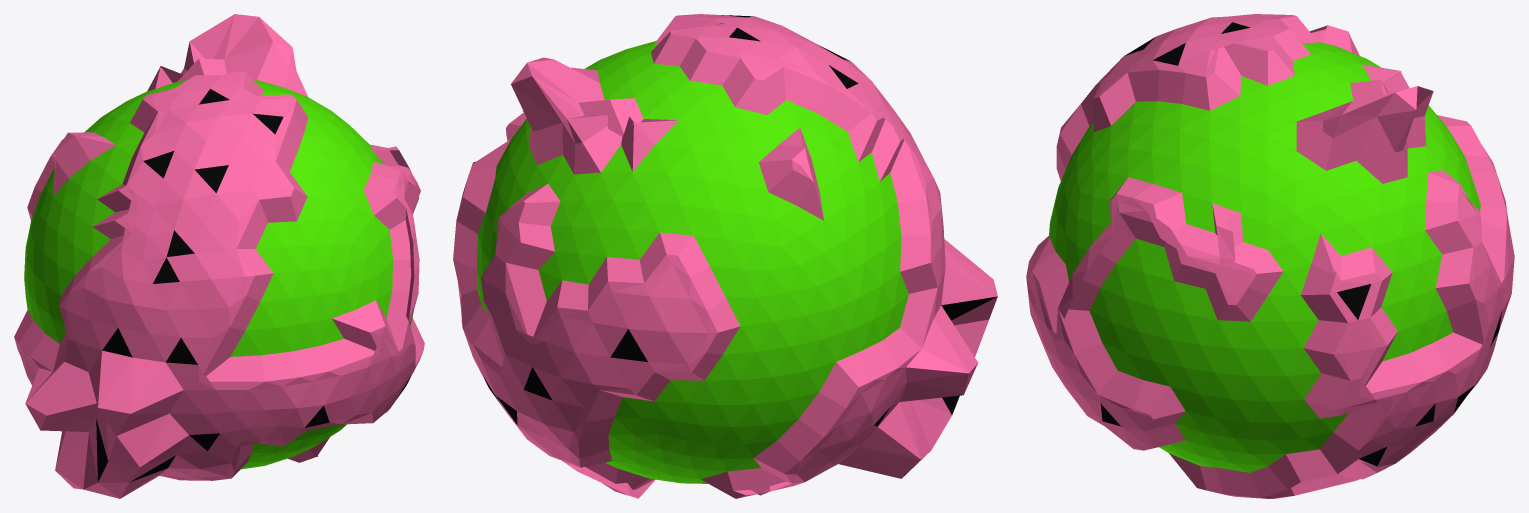
The model's file is Watermelon.fbx.
3 views of the same model, side by side, from view 1: azimuth 30°, elevation 25°; view 2: azimuth 150°, elevation 25°; view 3: azimuth 270°, elevation 25° (orthographic). The views are drawn at different scales.
Parts seen in each view (by area): view 1: Icosphere; view 2: Icosphere; view 3: Icosphere.
Boxes of the visible parts, left/top/right/bottom form: Icosphere: left=14, top=14, right=424, bottom=498; Icosphere: left=453, top=14, right=997, bottom=498; Icosphere: left=1026, top=14, right=1514, bottom=498.
Size of the model in its own units: 1166 by 1065 by 1106.
